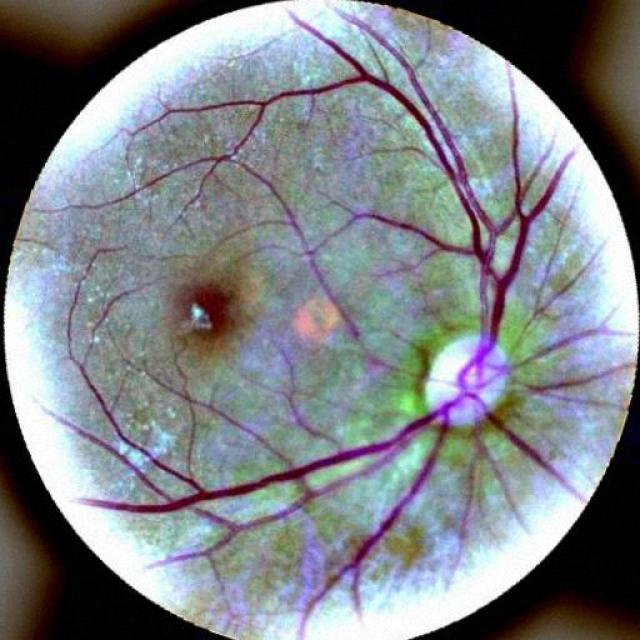Macula: (171, 271, 242, 341)
Nerves: (44, 9, 584, 592), (152, 475, 350, 566)
Optic Disk: (416, 330, 516, 428)
